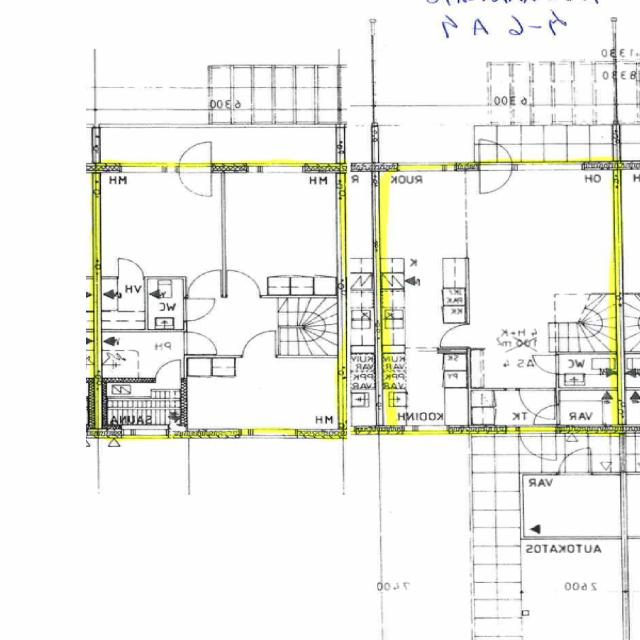door: (479, 135, 514, 172), (520, 424, 555, 460), (479, 162, 514, 198), (178, 137, 211, 173), (178, 163, 211, 199), (520, 386, 554, 416), (242, 328, 276, 358), (558, 446, 591, 476), (189, 270, 220, 298), (228, 270, 259, 298), (437, 325, 471, 347), (183, 299, 216, 321), (183, 332, 215, 353), (155, 358, 180, 383), (531, 404, 560, 424), (118, 257, 142, 280), (533, 355, 560, 373)
